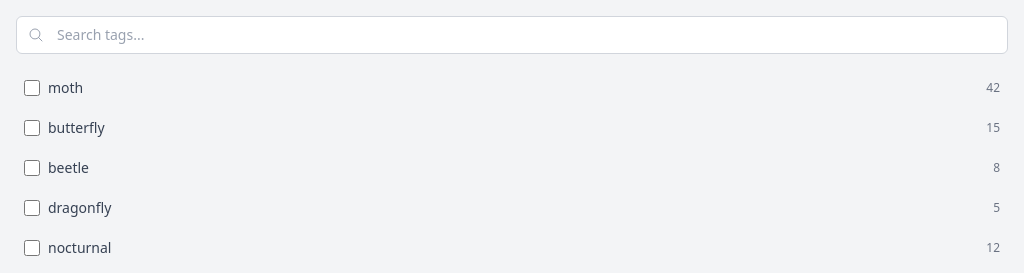
TagFilter › Search Functionality › filters tags based on search query
The width and height of the screenshot is (1024, 273).
Expected: the text "moth" is shown, [48,78,83,97]
In the field with placeholder "Search tags...": {"x": 512, "y": 35} [16,16,1008,54], type "fly"
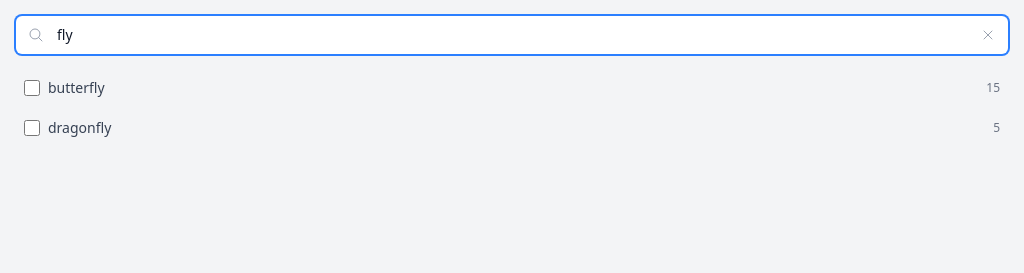
Expected: the text "butterfly" is shown, [48,78,105,97]
Result: the text "moth" is gone
Result: the text "beetle" is gone
